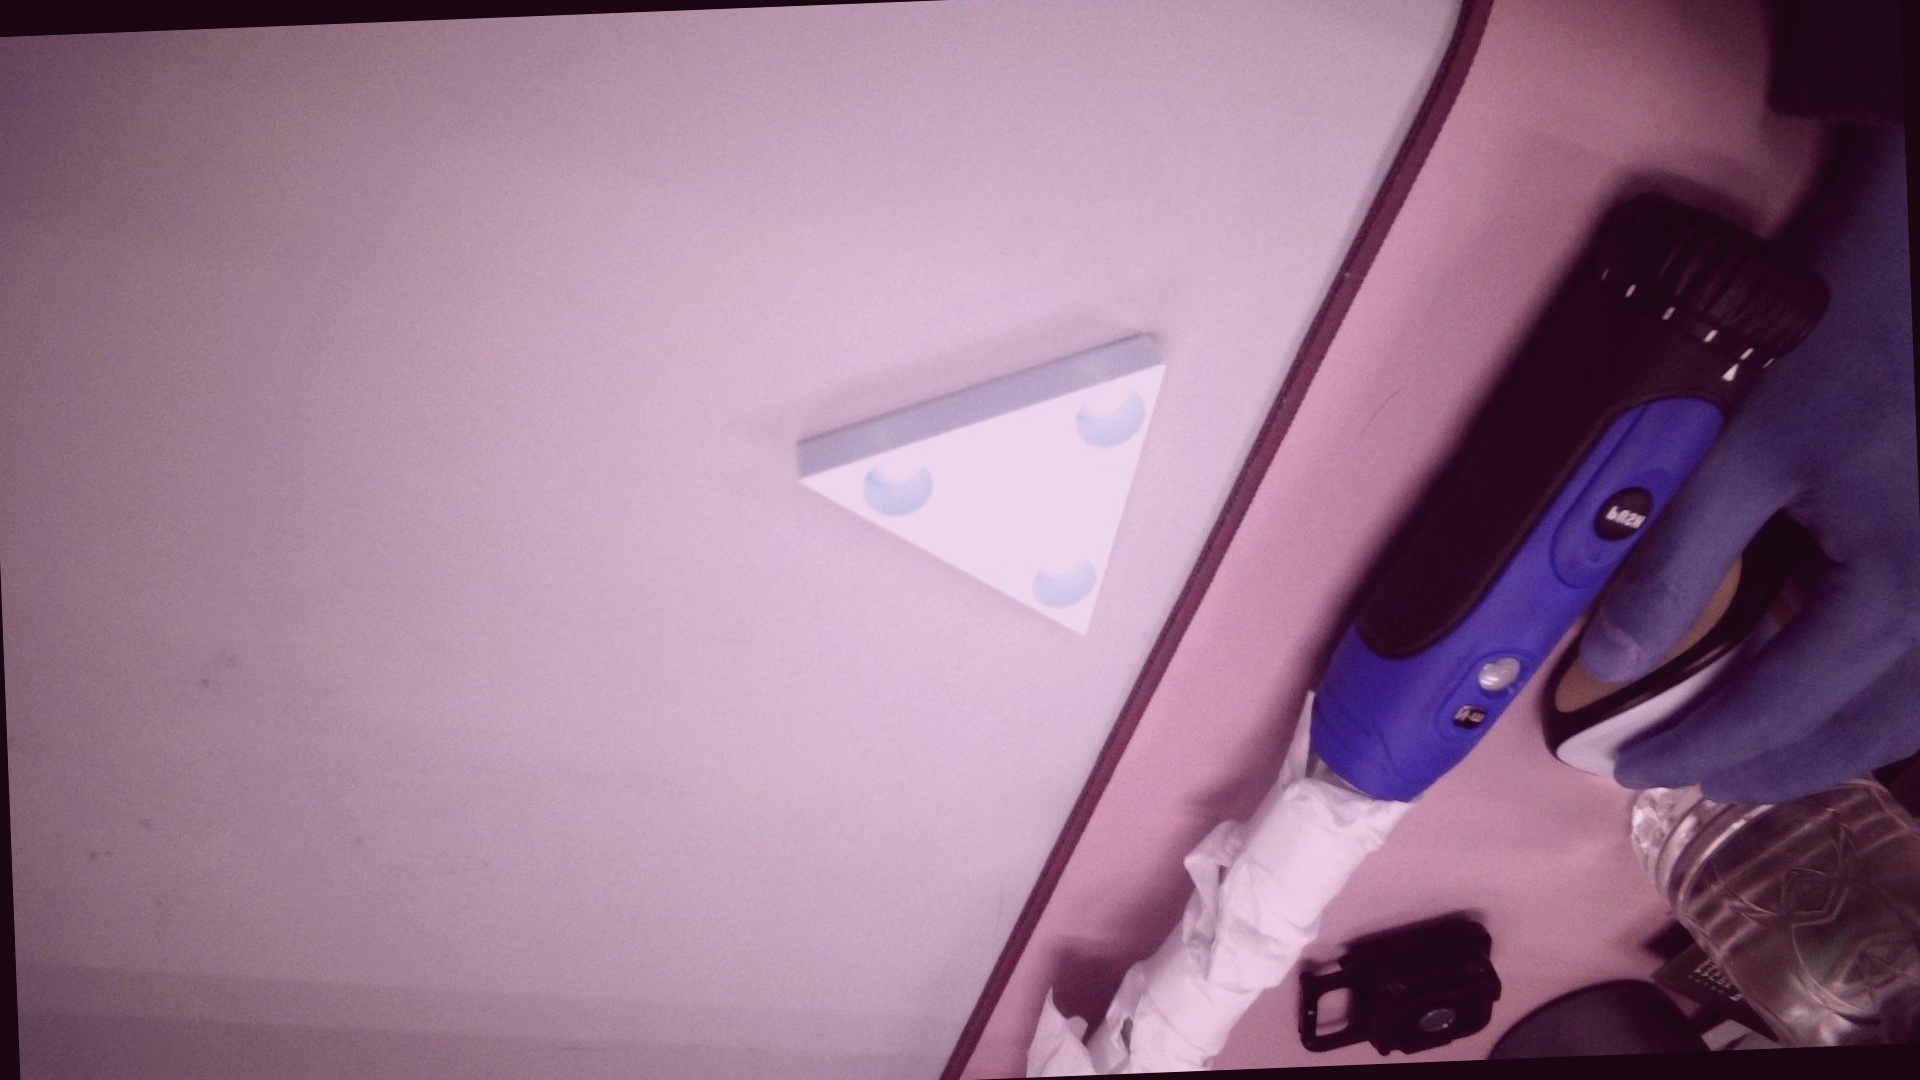hole: (858, 447, 934, 525), (1073, 376, 1154, 448), (1033, 549, 1096, 609)
obj: (756, 303, 1197, 678)
